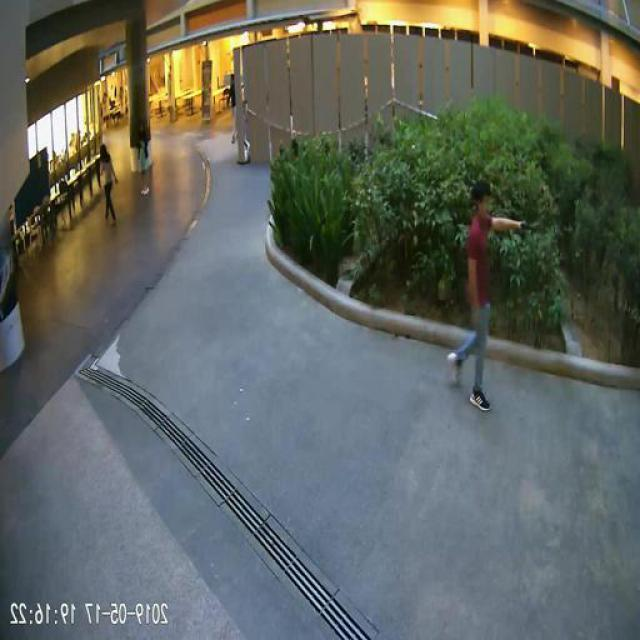Gun: (520, 218, 538, 232)
